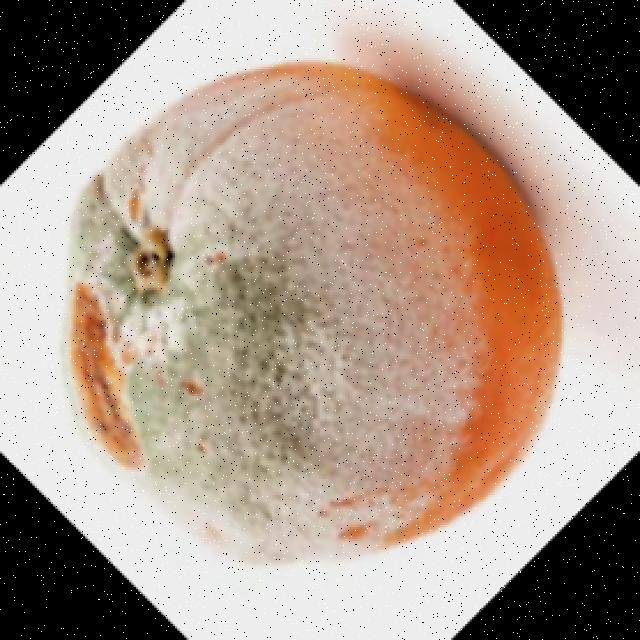Rotten: (64, 61, 563, 566)
